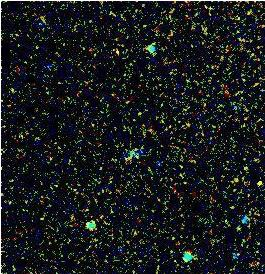star: (243, 166, 265, 196)
